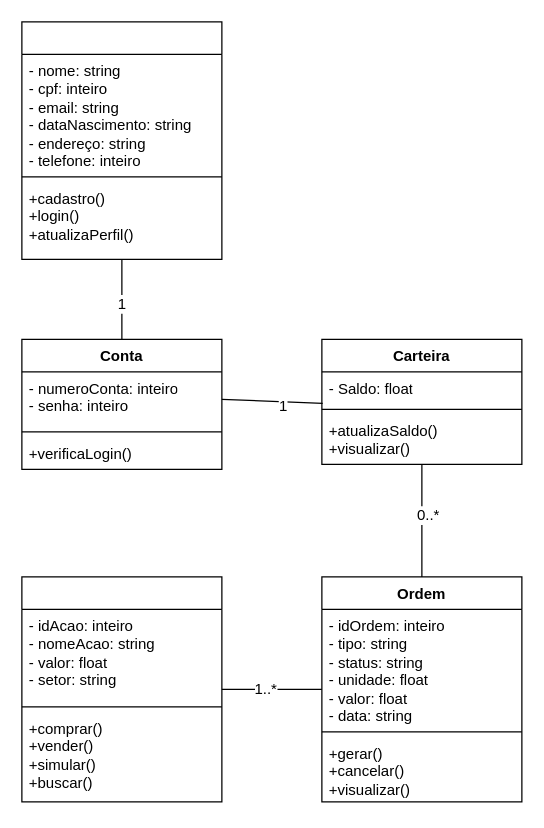
Some shapes in this 544 by 828 pixel diagram are drawn without their labels. Each missing label, with the box of its shape:
Ação: (21, 576, 222, 802)
Cliente: (21, 21, 222, 259)
